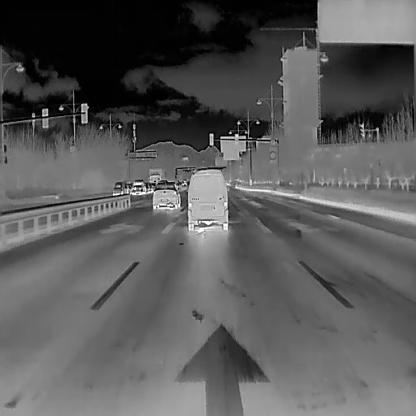car: (187, 166, 228, 230), (152, 180, 180, 208), (148, 169, 163, 185), (130, 180, 144, 193), (112, 180, 123, 194)
